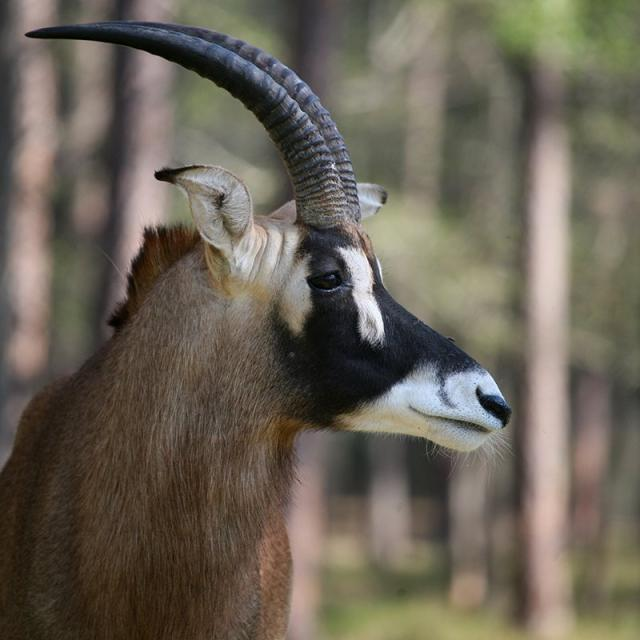Antelope: (13, 15, 512, 639)
